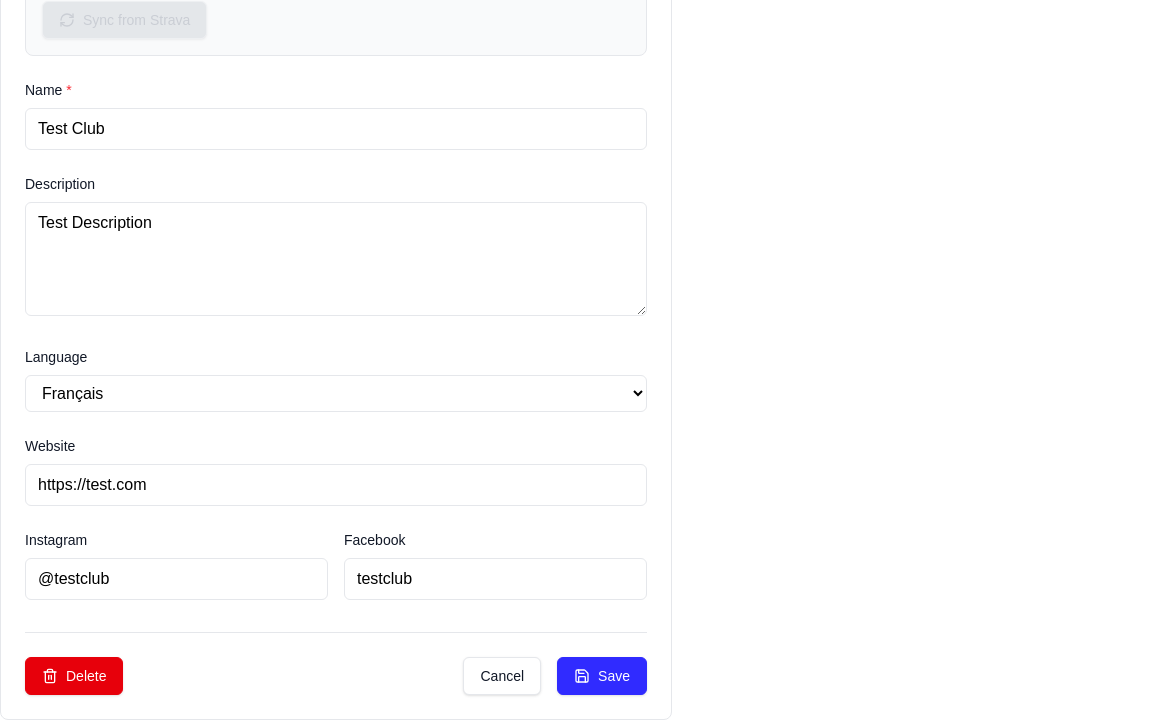
Test: ClubForm › Edit Mode › disables buttons while deleting
(page scrolled)
Click the button "Delete": click(74, 676) [25,657,124,695]
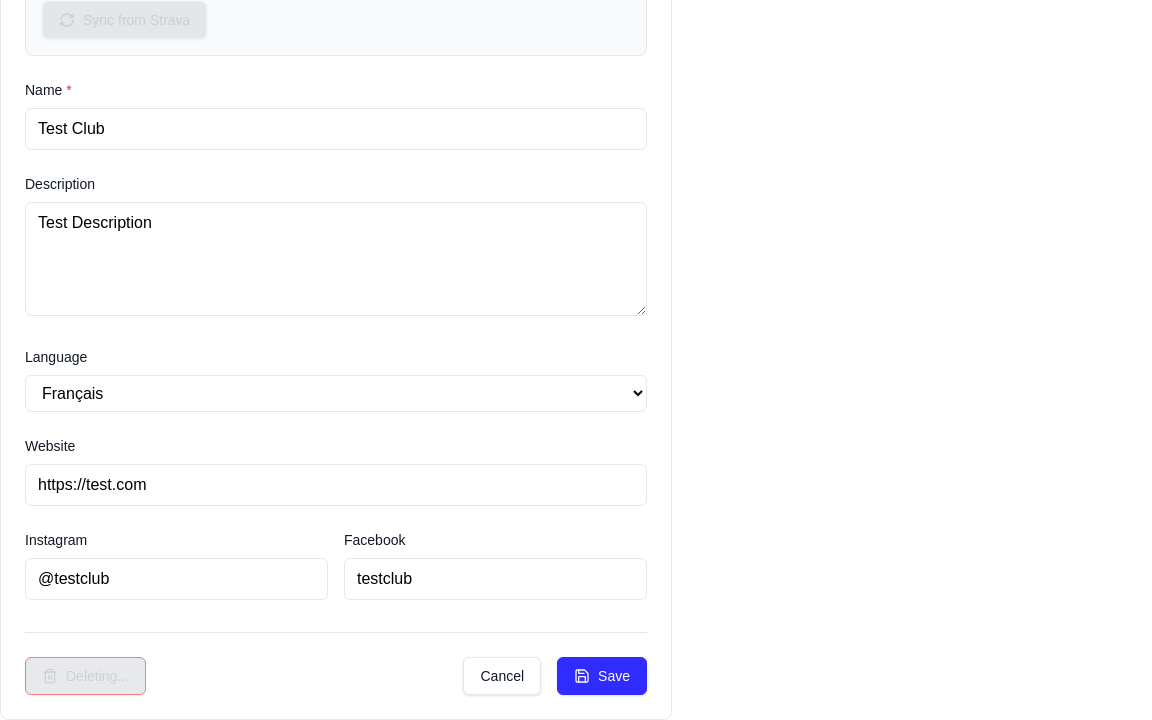
expect the button "Deleting..." is disabled: met, box [25,657,146,695]
